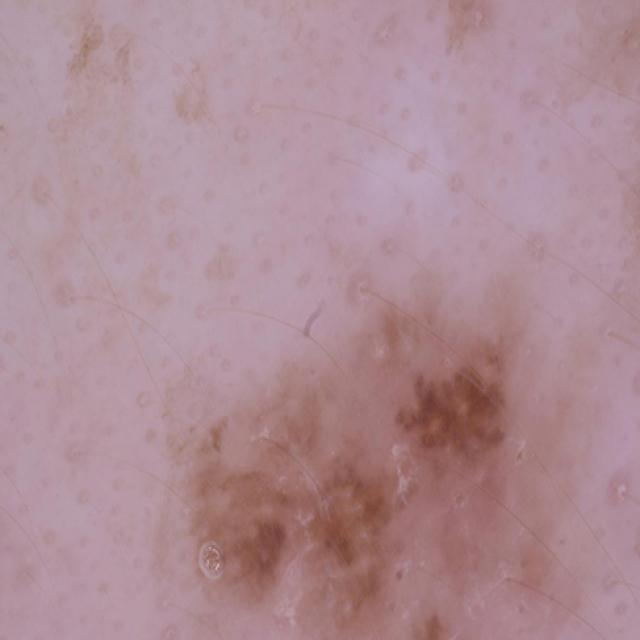Keratosis: (165, 343, 600, 640)
